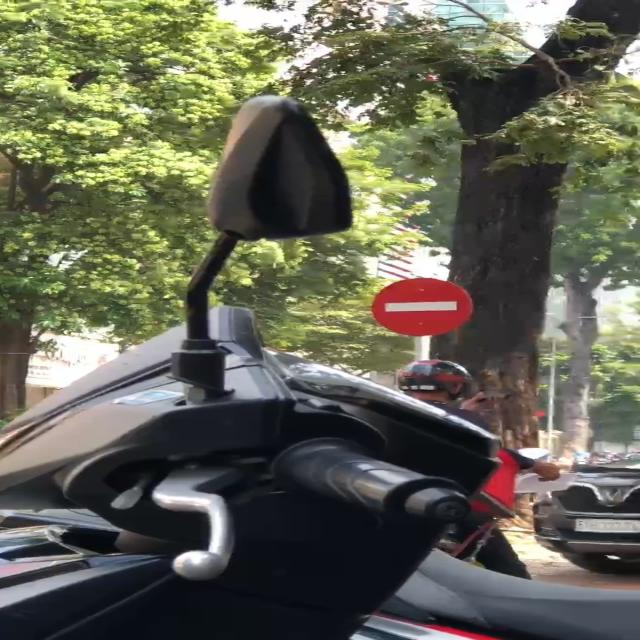Bien bao cam di nguoc chieu: (371, 272, 486, 339)
